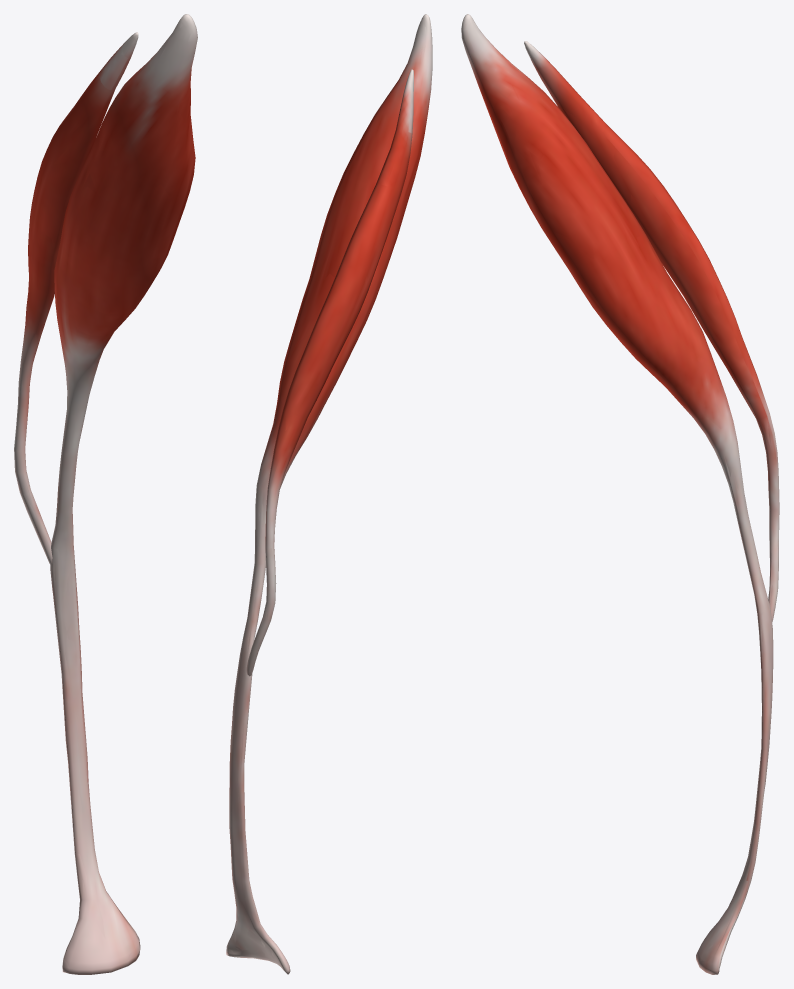
Rendered from R Long Digital Extensor.fbx.
The picture shows the model from 3 angles, left to right: view 1: azimuth 30°, elevation 25°; view 2: azimuth 150°, elevation 25°; view 3: azimuth 270°, elevation 25°; orthographic projection. The views are drawn at different scales.
Parts seen in each view (by area): view 1: R Long Digital Extensor, R Long Digital Extensor low; view 2: R Long Digital Extensor, R Long Digital Extensor low; view 3: R Long Digital Extensor, R Long Digital Extensor low.
Part boxes in pixels (x1,y1,x2,y2): R Long Digital Extensor: (14, 14, 197, 974); R Long Digital Extensor low: (14, 14, 197, 974); R Long Digital Extensor: (226, 14, 432, 974); R Long Digital Extensor low: (228, 14, 431, 974); R Long Digital Extensor: (461, 14, 779, 974); R Long Digital Extensor low: (462, 14, 779, 974).
Size of the model in its own units: 12.37 by 91.4 by 28.56.
